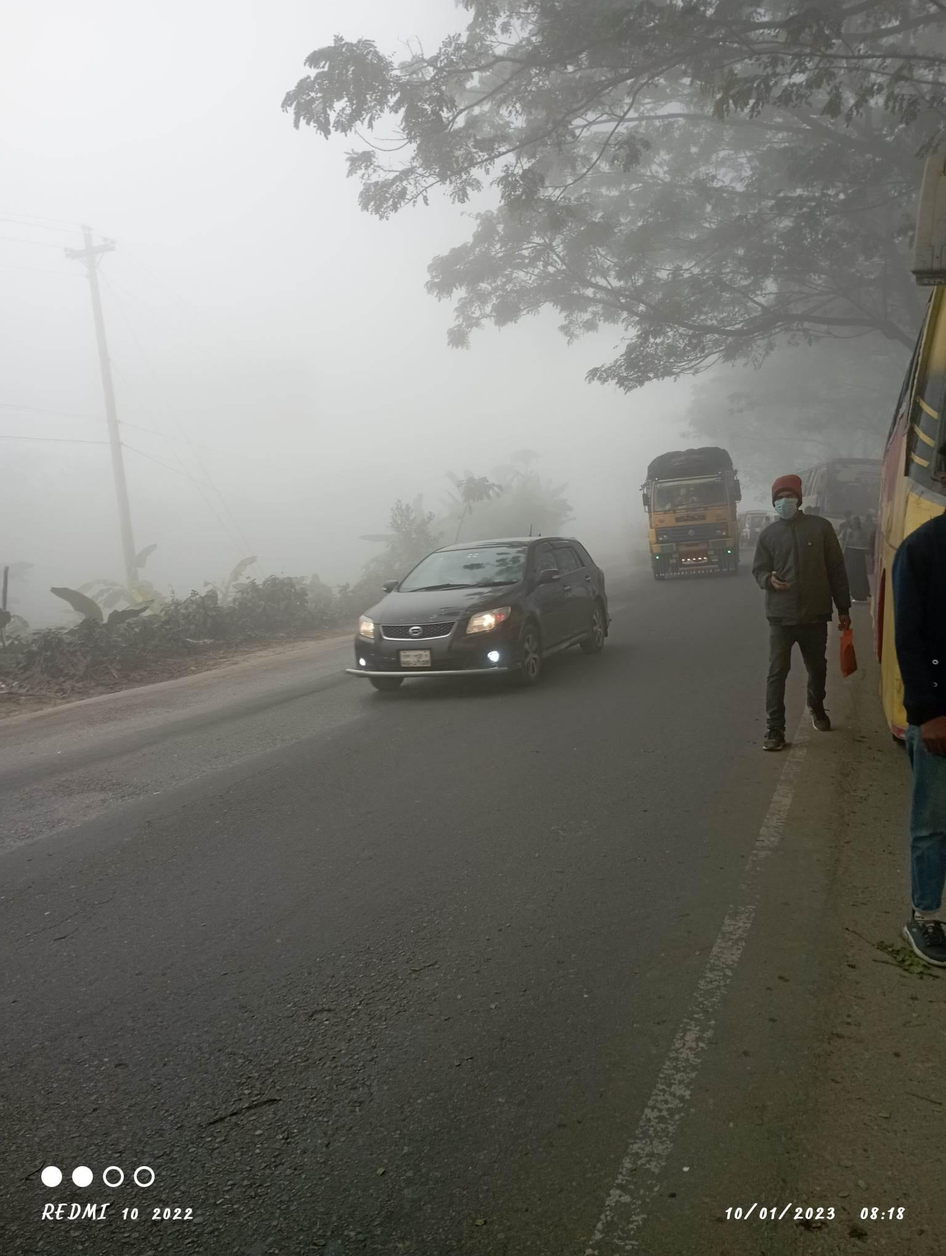Bus: (787, 427, 889, 605)
Car: (340, 489, 627, 720)
Truck: (634, 432, 753, 598)
